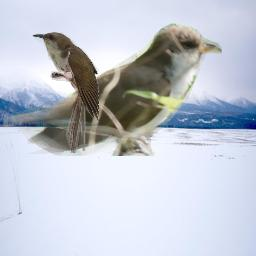Cuckoo: (3, 23, 222, 156), (32, 31, 99, 153)
